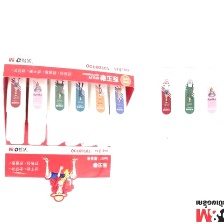book: (0, 50, 135, 205)
correction_fluid: (3, 57, 28, 142), (46, 63, 71, 143), (26, 60, 49, 144), (87, 67, 110, 145), (201, 64, 223, 145), (67, 65, 89, 143), (179, 65, 200, 146), (106, 69, 128, 144), (155, 64, 176, 141)
